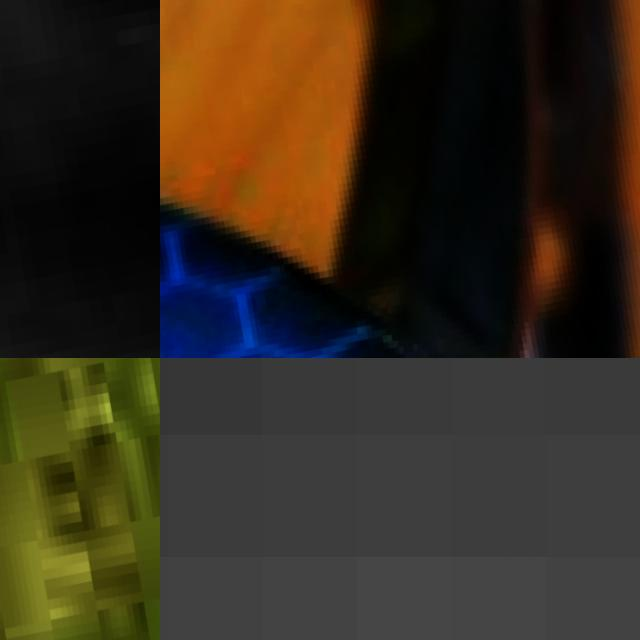drone: (160, 0, 640, 358), (0, 0, 160, 358), (0, 358, 160, 640)
